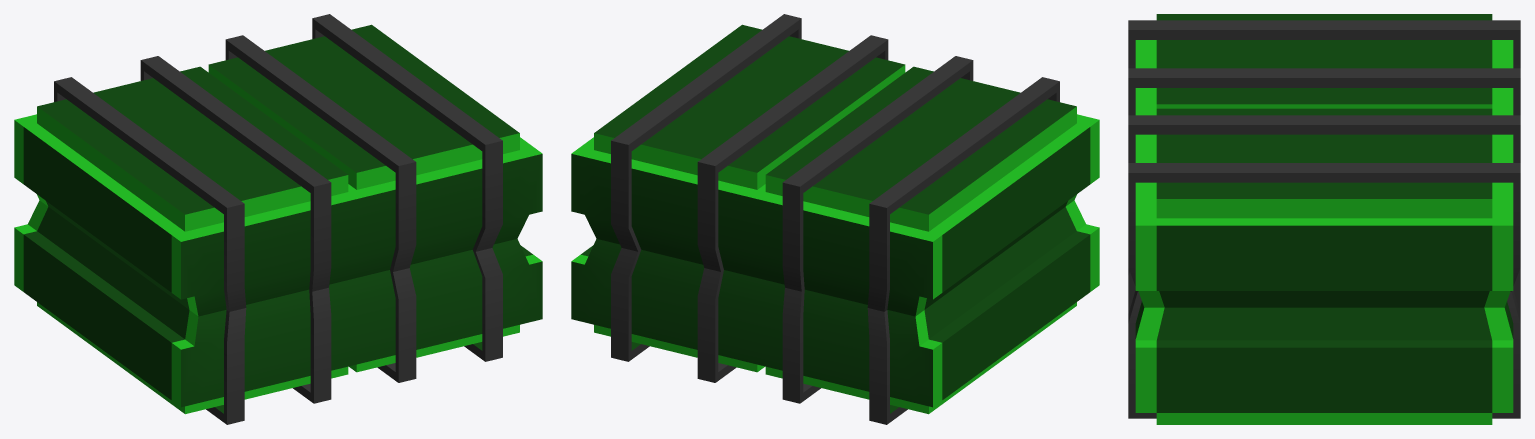
File: valise_vert_s.fbx
3 views of the same model, side by side, from view 1: azimuth 30°, elevation 25°; view 2: azimuth 150°, elevation 25°; view 3: azimuth 270°, elevation 25° (orthographic). The views are drawn at different scales.
Parts seen in each view (by area): view 1: valise_vert; view 2: valise_vert; view 3: valise_vert.
Boxes of the visible parts, x1,y1,x2,y2 form: valise_vert: [14, 14, 542, 424]; valise_vert: [571, 14, 1099, 424]; valise_vert: [1128, 14, 1520, 424].
Bounding box in the file's own units: 100 × 57.32 × 82.9.
